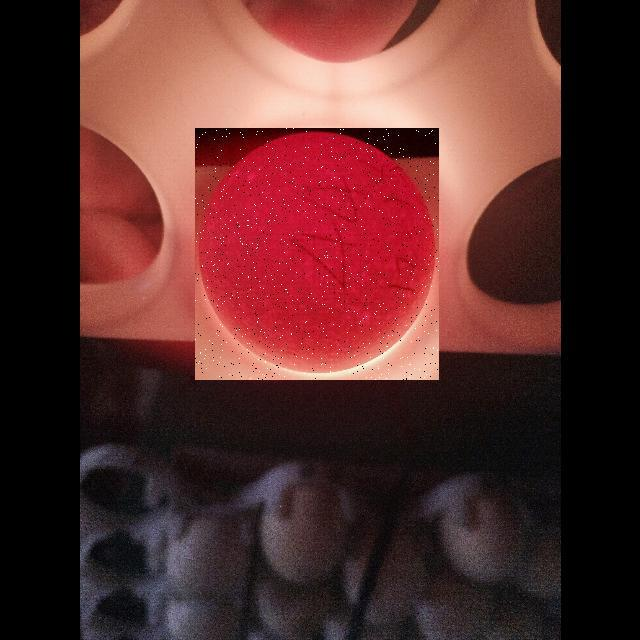A - Good: (195, 128, 439, 380)
